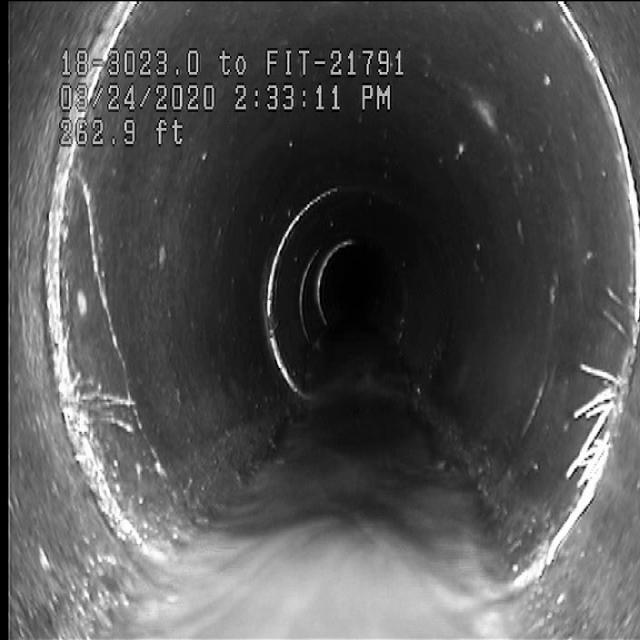Crack: (74, 169, 178, 469)
